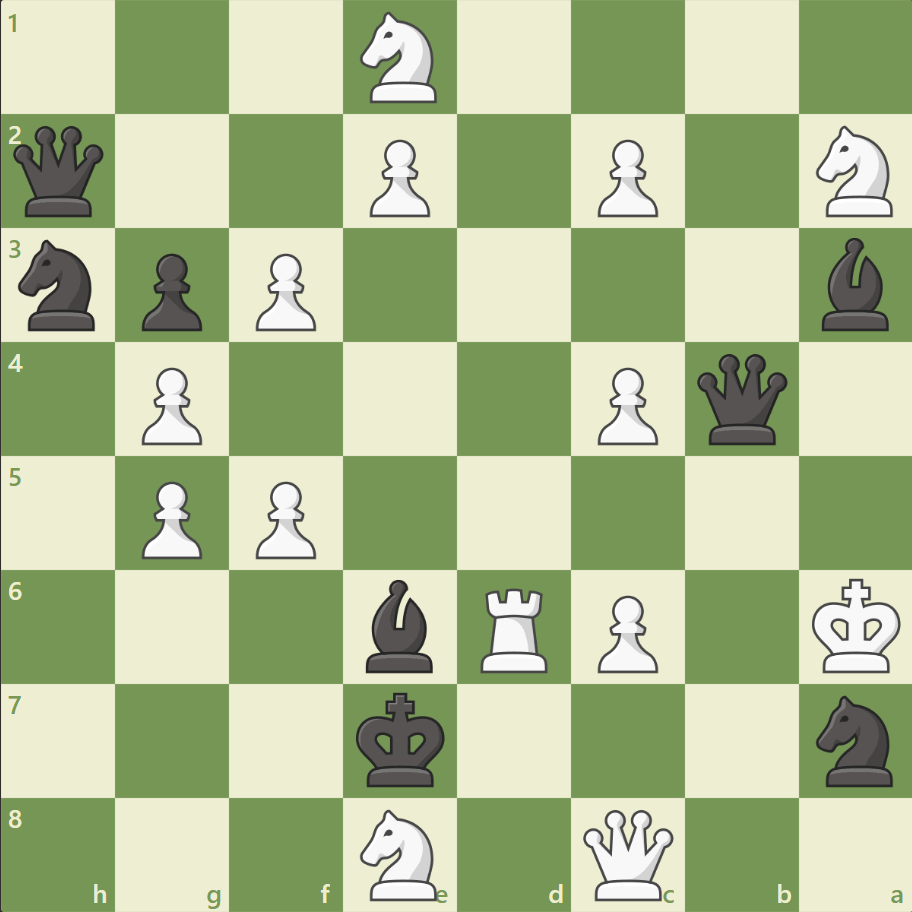K: (806, 571, 906, 679)
N: (351, 7, 449, 110), (351, 802, 449, 904), (806, 121, 903, 223)
P: (247, 473, 322, 564), (133, 473, 208, 564), (133, 359, 208, 450), (247, 246, 322, 337), (588, 586, 662, 677), (588, 359, 662, 450), (588, 132, 662, 223), (361, 132, 435, 223)
Q: (578, 804, 677, 903)
R: (473, 579, 556, 676)
b: (812, 233, 896, 336), (358, 574, 442, 676)
k: (351, 685, 451, 793)
n: (806, 688, 903, 791), (11, 234, 108, 337)
p: (133, 246, 208, 337)
q: (691, 349, 790, 449), (10, 122, 109, 222)
